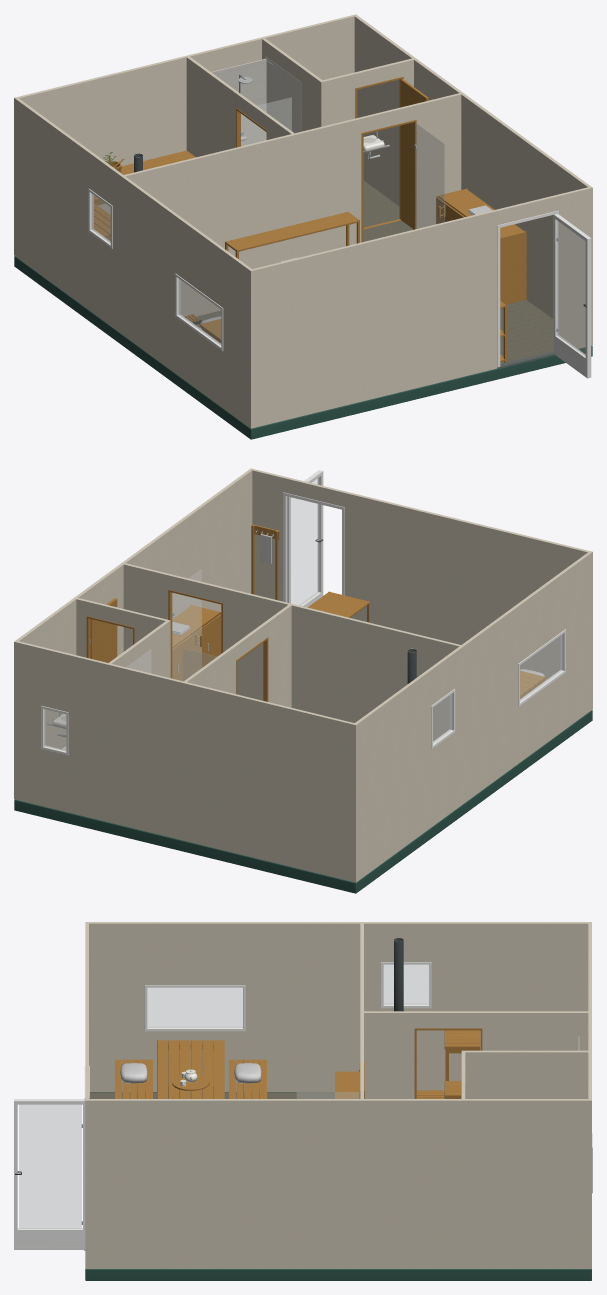
The picture shows the model from 3 angles, top to bottom: view 1: azimuth 30°, elevation 25°; view 2: azimuth 150°, elevation 25°; view 3: azimuth 270°, elevation 25°; orthographic projection. The views are drawn at different scales.
Visible parts, largest first — view 1: Wall front band 2, Foundation, Wall front band 7, Wall front band 4, Wall front band 5, Wall front band 6, Wall front band 1, Wall front band 8, Wall left band 2, Wall top_7_0004 band 7, Wall top_7_0004 band 8, Wall rear band 8 (+52 smaller); view 2: Wall rear band 2, Wall rear band 7, Wall rear band 6, Wall rear band 1, Wall rear band 4, Wall rear band 5, Foundation, Wall rear band 8, Wall left band 2, Wall front band 8, Wall front band 7, Wall top_7_0004 band 8 (+43 smaller); view 3: Wall right band 2, Wall right band 4, Wall right band 5, Wall right band 6, Wall right band 7, Wall left band 7, Wall right band 1, Wall left band 6, Wall right band 8, Wall left band 8, Wall left band 5, Single PVC glass panel (+32 smaller).
Part boxes in pixels (x1,y1,x2,y2): Wall front band 2: (249, 291, 592, 398); Foundation: (14, 256, 592, 439); Wall front band 7: (249, 202, 592, 306); Wall front band 4: (249, 266, 592, 371); Wall front band 5: (249, 245, 592, 349); Wall front band 6: (249, 223, 592, 328); Wall front band 1: (249, 315, 592, 418); Wall front band 8: (249, 186, 592, 285); Wall left band 2: (15, 203, 249, 396); Wall top_7_0004 band 7: (140, 109, 461, 202); Wall top_7_0004 band 8: (124, 93, 461, 186); Wall rear band 8: (14, 14, 357, 112); Wall rear band 2: (14, 745, 357, 852); Wall rear band 7: (14, 656, 357, 760); Wall rear band 6: (14, 677, 357, 782); Wall rear band 1: (14, 769, 357, 872); Wall rear band 4: (14, 720, 357, 825); Wall rear band 5: (14, 699, 357, 803); Foundation: (14, 710, 592, 893); Wall rear band 8: (14, 640, 357, 739); Wall left band 2: (357, 657, 591, 850); Wall front band 8: (249, 468, 592, 566); Wall front band 7: (252, 484, 592, 588); Wall top_7_0004 band 8: (123, 563, 460, 656); Wall right band 2: (89, 1211, 588, 1236); Wall right band 4: (89, 1184, 588, 1207); Wall right band 5: (89, 1162, 588, 1184); Wall right band 6: (89, 1139, 588, 1161); Wall right band 7: (89, 1116, 588, 1138); Wall left band 7: (89, 939, 588, 961); Wall right band 1: (89, 1237, 588, 1258); Wall left band 6: (89, 962, 588, 984); Wall right band 8: (89, 1099, 588, 1115); Wall left band 8: (89, 922, 588, 938); Wall left band 5: (89, 985, 588, 1007); Single PVC glass panel: (19, 1105, 81, 1228).
Bounding box in the file's own units: 5.01 × 2.36 × 6.85.
35 materials, 16 textured.
